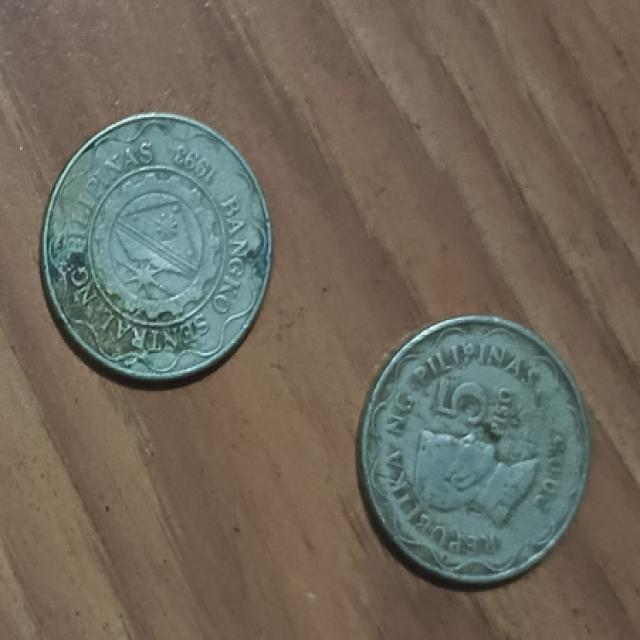5_peso: (41, 114, 271, 379), (358, 317, 587, 581)
